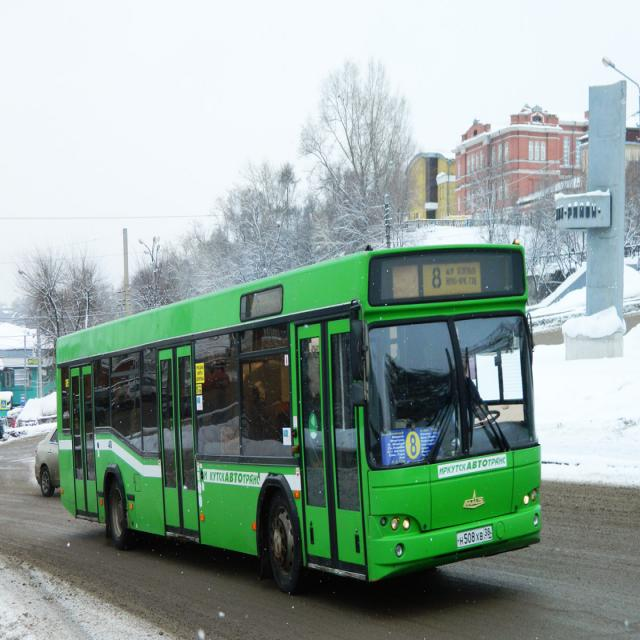number-of-bus: (432, 265, 445, 291), (409, 433, 419, 459)
